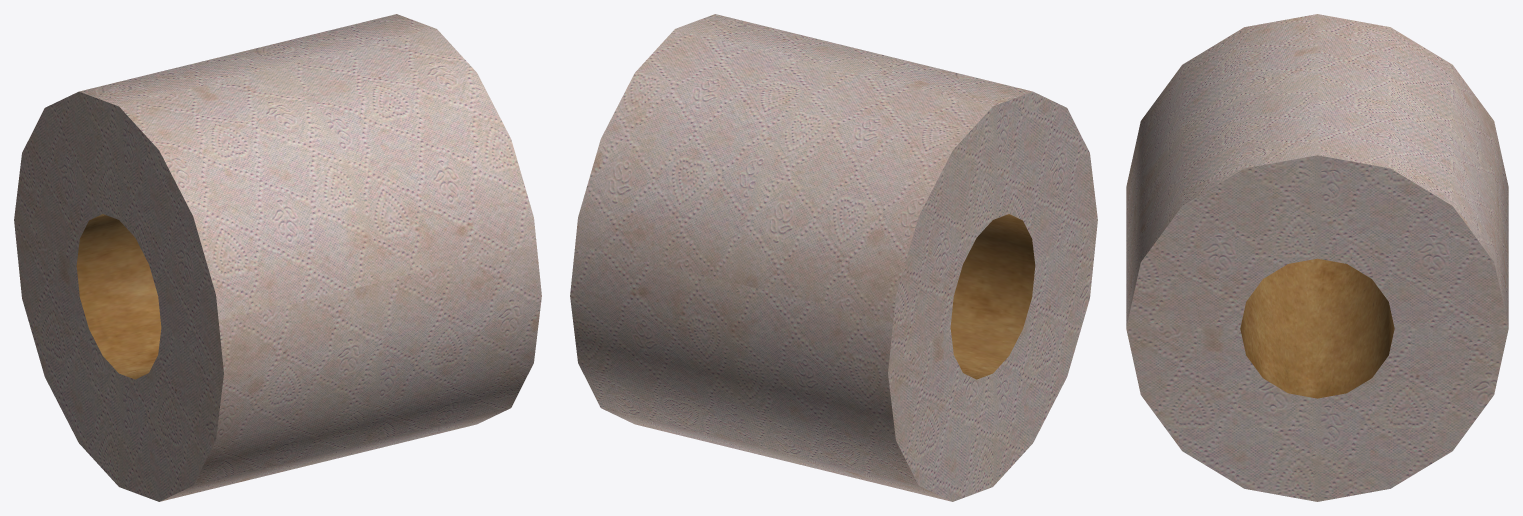
Rendered from Toilet Roll_Full.FBX.
3 views of the same model, side by side, from view 1: azimuth 30°, elevation 25°; view 2: azimuth 150°, elevation 25°; view 3: azimuth 270°, elevation 25° (orthographic). The views are drawn at different scales.
Visible parts, largest first — view 1: Toilet Roll_Full; view 2: Toilet Roll_Full; view 3: Toilet Roll_Full.
Boxes of the visible parts, <box> form: Toilet Roll_Full: <box>14,14,541,501</box>; Toilet Roll_Full: <box>570,14,1097,501</box>; Toilet Roll_Full: <box>1126,14,1508,501</box>.
Bounding box in the file's own units: 0.0982 × 0.1124 × 0.1124.
